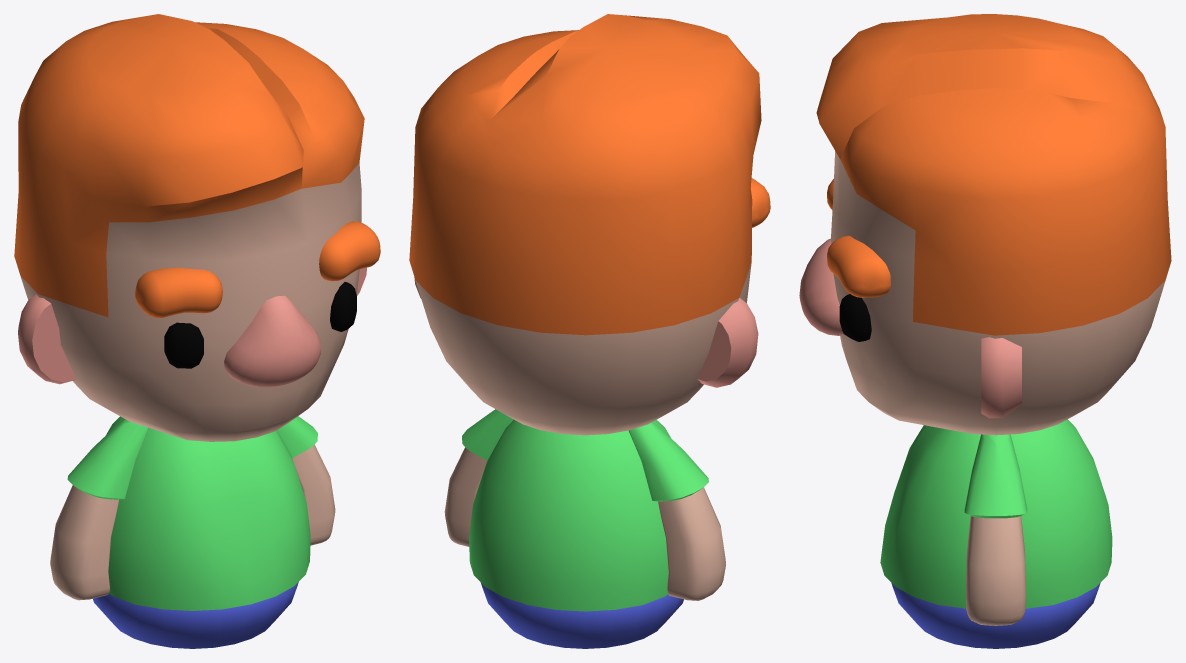
File: Guest_2.fbx
The picture shows the model from 3 angles, left to right: view 1: azimuth 30°, elevation 25°; view 2: azimuth 150°, elevation 25°; view 3: azimuth 270°, elevation 25°; orthographic projection.
Parts seen in each view (by area): view 1: PrototypePete_head.002, PrototypePete_body.002, PrototypePete_armRight.001, PrototypePete_armLeft.002; view 2: PrototypePete_head.002, PrototypePete_body.002, PrototypePete_armRight.001, PrototypePete_armLeft.002; view 3: PrototypePete_head.002, PrototypePete_body.002, PrototypePete_armLeft.002.
Boxes of the visible parts, box(x1,y1,x2,y2) form: PrototypePete_head.002: box(14, 14, 380, 441); PrototypePete_body.002: box(93, 416, 310, 648); PrototypePete_armRight.001: box(50, 418, 148, 600); PrototypePete_armLeft.002: box(276, 416, 335, 545); PrototypePete_head.002: box(409, 14, 770, 435); PrototypePete_body.002: box(469, 419, 683, 648); PrototypePete_armRight.001: box(629, 421, 725, 600); PrototypePete_armLeft.002: box(444, 409, 513, 546); PrototypePete_head.002: box(799, 14, 1171, 435); PrototypePete_body.002: box(880, 419, 1112, 648); PrototypePete_armLeft.002: box(964, 434, 1027, 625).
Size of the model in its own units: 118 by 190 by 112.
